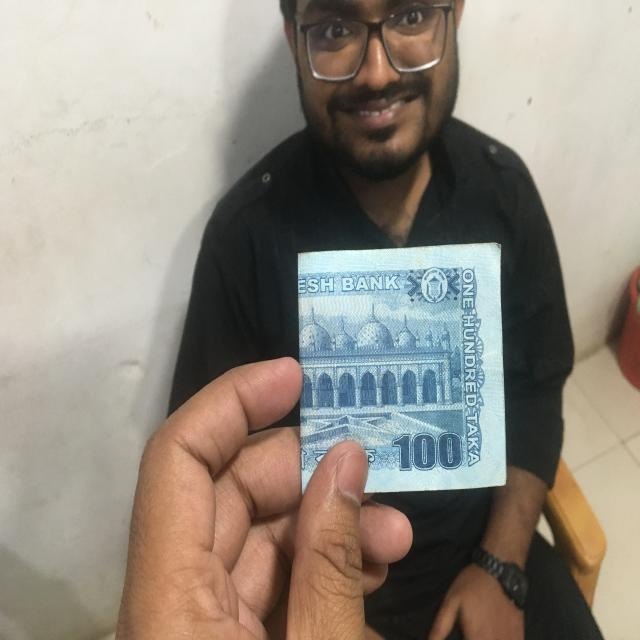Taka: (302, 251, 506, 492)
